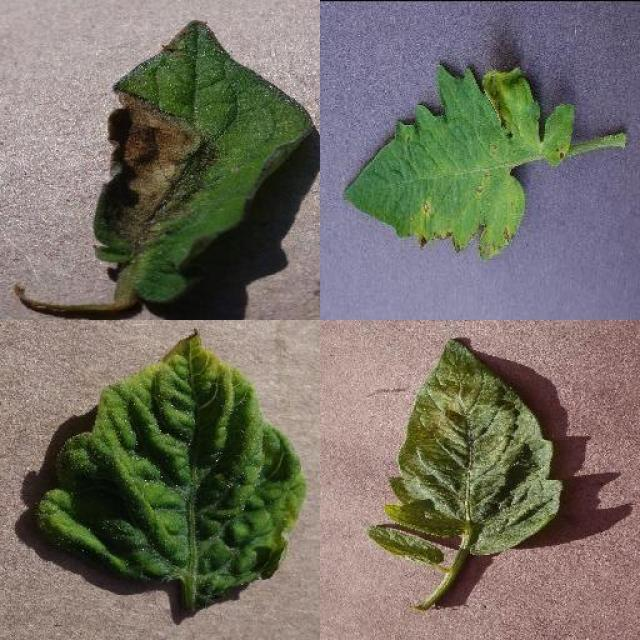Late Blight: (95, 20, 317, 302)
Septoria: (342, 64, 576, 258)
